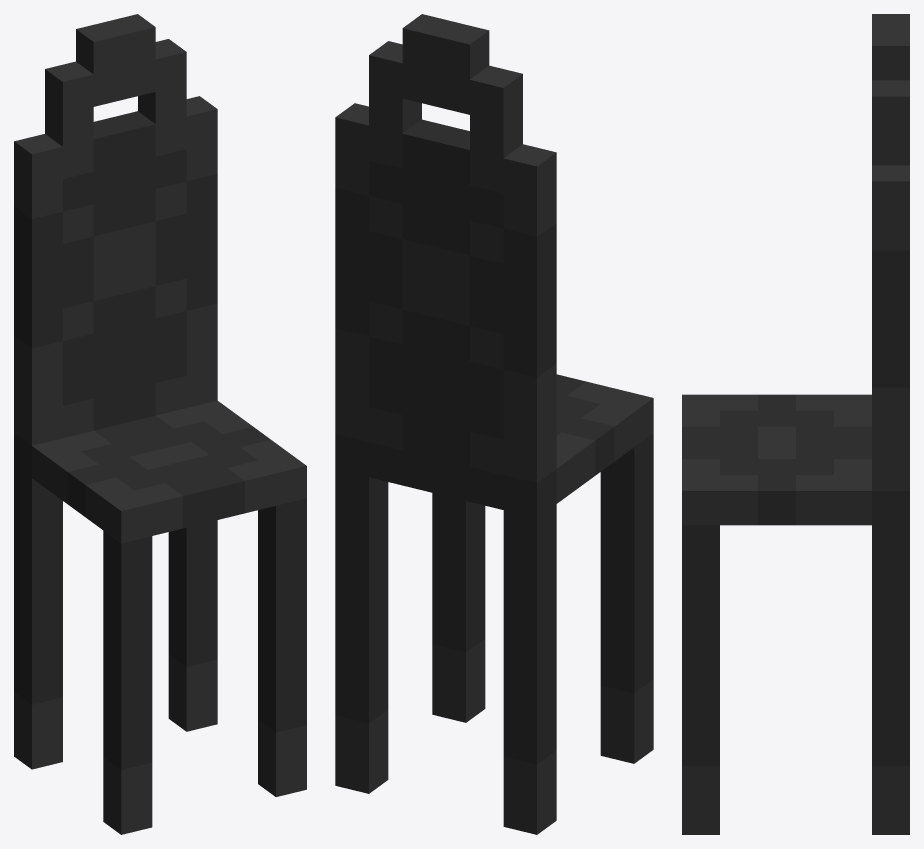
Rendered from Decor-76.obj.
3 renders of one model, left to right at view 1: azimuth 30°, elevation 25°; view 2: azimuth 150°, elevation 25°; view 3: azimuth 270°, elevation 25°, orthographic. The views are drawn at different scales.
Size of the model in its own units: 0.6 by 2.2 by 0.6.
Materials: 1 (1 with a texture image).
